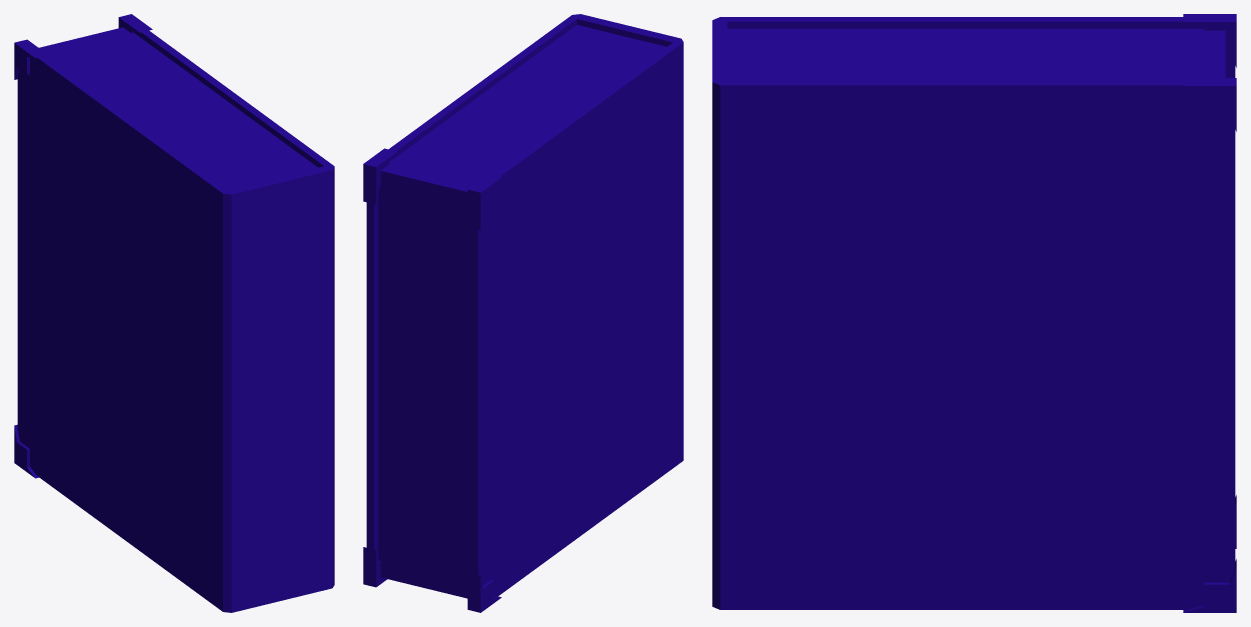
Rendered from CG_Model_TownInt_Book5_Mar24_ChrisMcknight.FBX.
3 renders of one model, left to right at view 1: azimuth 30°, elevation 25°; view 2: azimuth 150°, elevation 25°; view 3: azimuth 270°, elevation 25°, orthographic. The views are drawn at different scales.
Visible parts, largest first — view 1: Book5; view 2: Book5; view 3: Book5.
Boxes of the visible parts, <box> form: Book5: <box>14,14,334,612</box>; Book5: <box>363,14,683,612</box>; Book5: <box>712,14,1236,612</box>.
Bounding box in the file's own units: 2 × 6.82 × 6.15.
